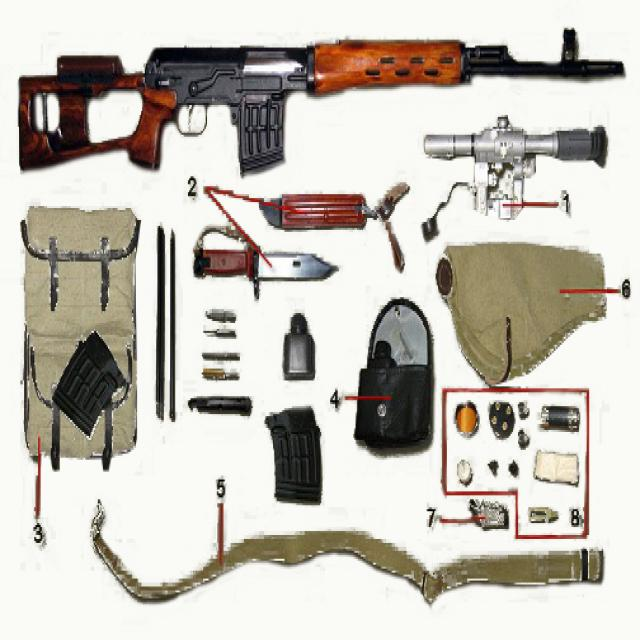firearm: (16, 25, 626, 181)
knife: (192, 244, 340, 302)
